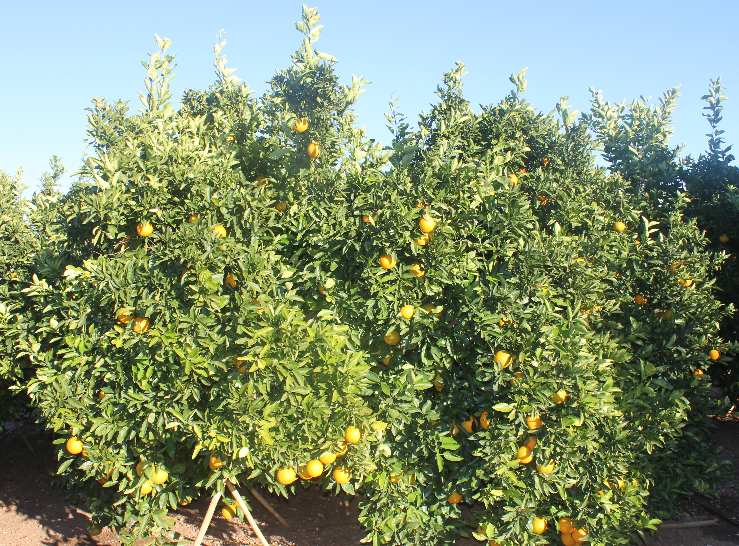orange: (522, 410, 547, 434), (534, 453, 558, 478), (275, 462, 299, 485), (547, 384, 572, 406), (134, 216, 156, 239), (409, 259, 431, 282), (458, 413, 481, 435), (491, 349, 514, 371), (590, 478, 611, 502), (295, 459, 316, 482), (291, 113, 311, 137), (377, 251, 398, 273), (418, 215, 440, 235), (420, 299, 442, 319), (428, 367, 448, 389), (317, 444, 337, 466), (304, 140, 325, 160), (411, 228, 431, 249), (509, 368, 529, 389), (530, 512, 550, 533), (183, 206, 203, 226), (344, 425, 364, 445), (210, 449, 230, 469), (306, 457, 325, 478), (132, 315, 152, 334), (570, 523, 589, 543), (316, 279, 334, 300), (689, 364, 707, 385), (234, 356, 251, 378), (250, 295, 269, 314), (383, 326, 402, 345), (523, 434, 542, 453), (151, 466, 169, 486), (66, 436, 84, 456), (479, 410, 497, 430), (211, 223, 229, 242), (222, 350, 240, 369), (334, 466, 352, 485), (444, 487, 463, 505), (533, 278, 552, 296), (475, 521, 494, 539), (309, 367, 326, 387), (515, 445, 532, 465), (333, 439, 351, 457), (557, 516, 575, 534), (136, 457, 152, 477), (444, 418, 459, 439), (610, 471, 625, 492), (485, 531, 506, 546), (253, 173, 270, 191), (102, 458, 119, 476), (498, 311, 515, 329), (583, 296, 600, 314), (118, 232, 135, 249), (97, 386, 114, 403), (571, 253, 588, 270), (575, 313, 592, 330), (136, 480, 154, 496), (400, 301, 415, 320), (223, 502, 238, 521), (427, 415, 442, 434), (509, 351, 524, 370), (622, 475, 637, 494), (272, 199, 289, 215), (416, 197, 432, 214), (366, 341, 383, 357), (78, 441, 94, 458), (93, 469, 109, 486), (632, 292, 648, 309), (7, 267, 22, 285), (128, 484, 143, 502), (402, 470, 417, 488), (361, 210, 377, 226), (403, 335, 419, 351), (505, 172, 521, 188), (118, 306, 133, 323), (383, 349, 398, 366), (206, 458, 221, 475), (389, 467, 404, 484), (708, 346, 723, 363), (223, 130, 237, 148), (233, 497, 248, 513), (483, 182, 499, 197), (669, 261, 685, 276), (558, 530, 573, 546), (179, 264, 193, 281), (223, 272, 237, 289), (718, 232, 733, 247), (434, 380, 448, 396), (663, 307, 677, 323), (309, 238, 322, 255), (561, 226, 578, 239), (539, 155, 554, 169), (533, 192, 547, 207), (681, 274, 695, 289), (667, 273, 681, 288), (653, 307, 666, 323), (432, 324, 446, 338), (613, 219, 627, 233), (609, 267, 622, 281), (449, 163, 461, 178), (683, 179, 694, 195), (468, 175, 481, 188), (682, 254, 695, 267), (517, 165, 529, 179), (207, 470, 218, 485), (633, 239, 645, 251), (625, 219, 635, 230)
